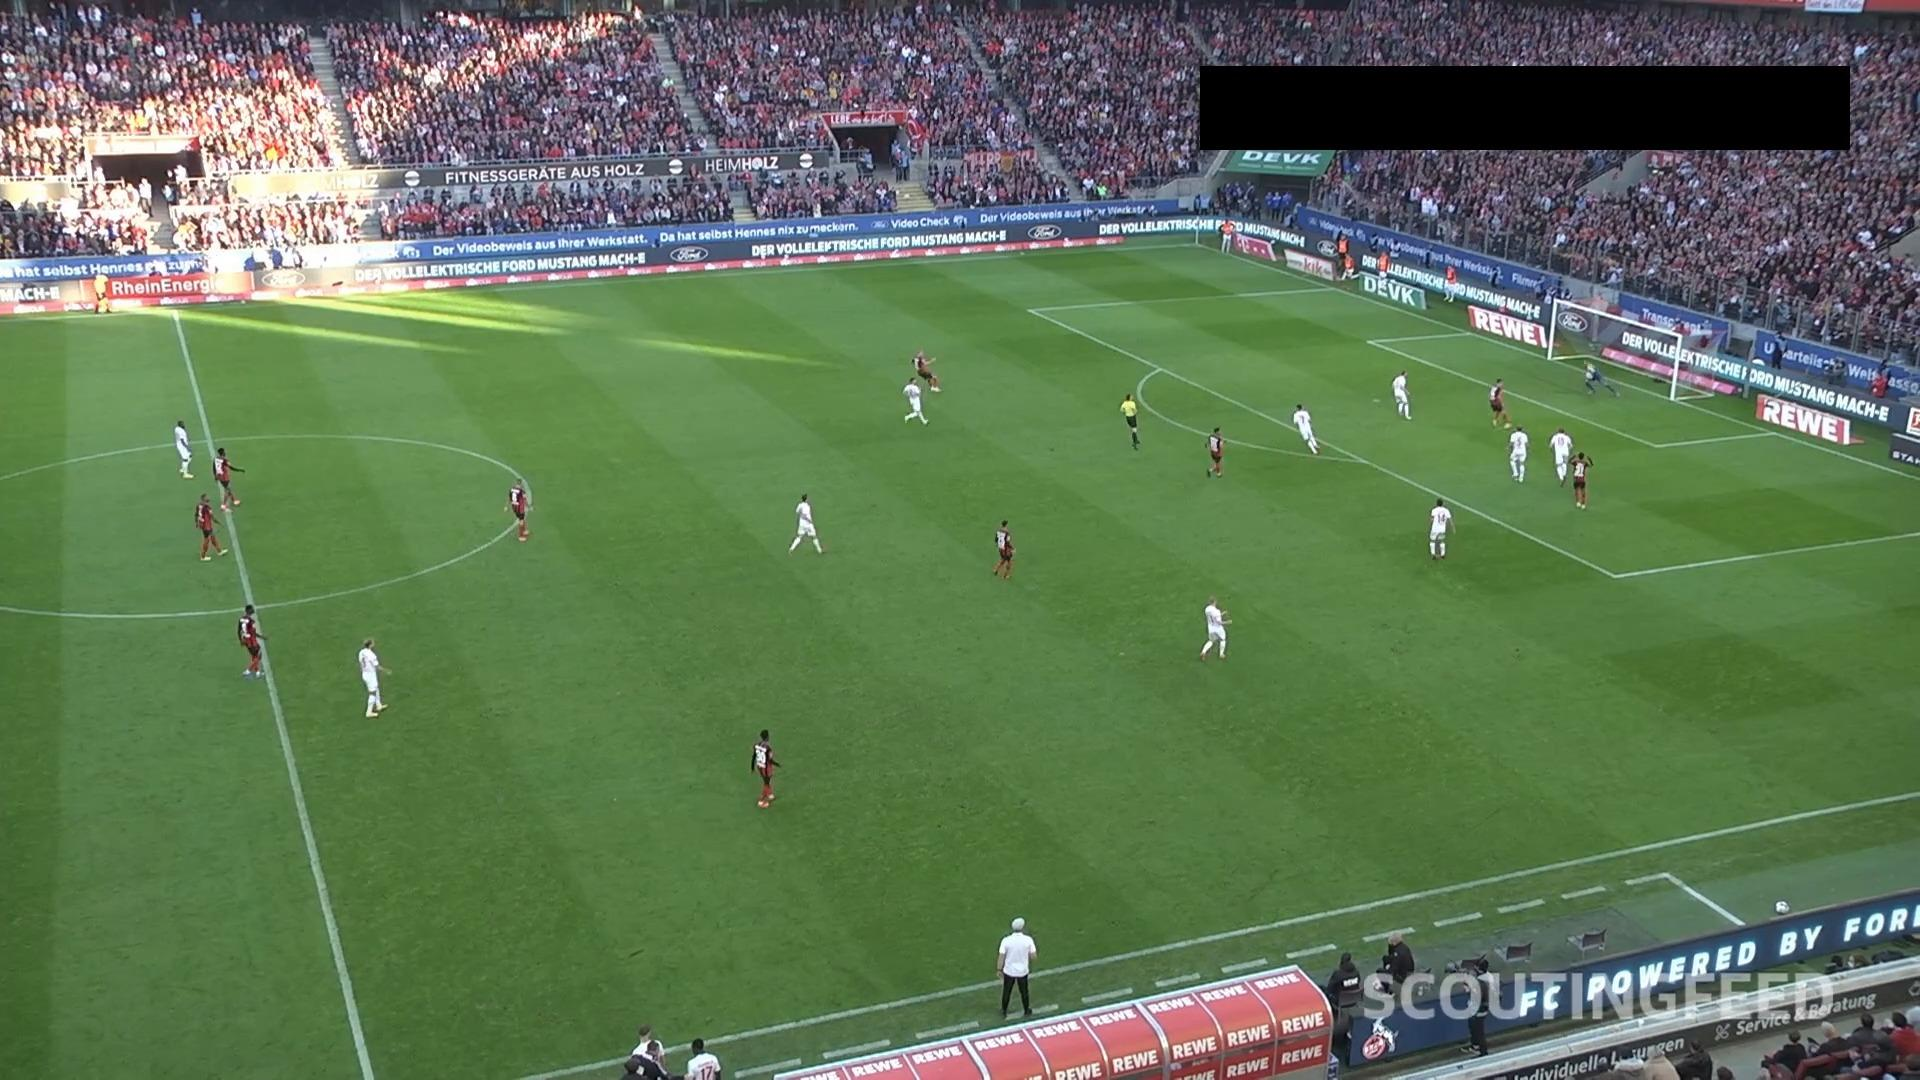ball: (1585, 371, 1592, 380)
